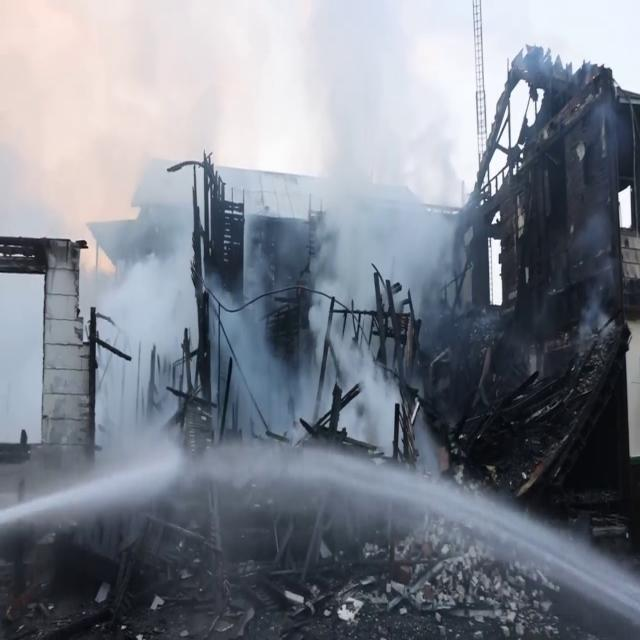Smoke: (40, 222, 437, 564)
